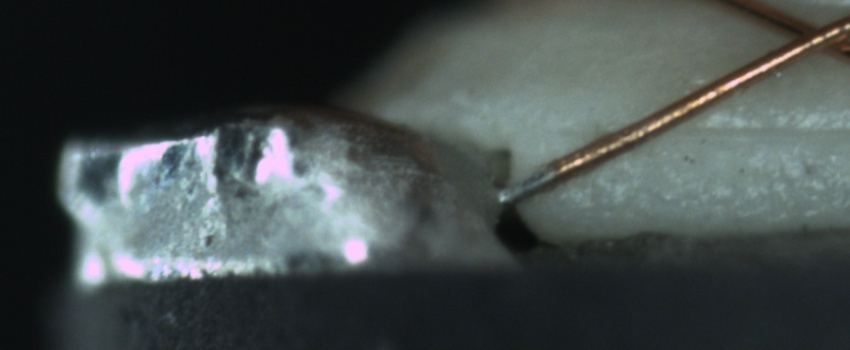CL: (764, 5, 849, 65)
DL: (559, 102, 850, 158)
TS: (496, 166, 555, 204)
